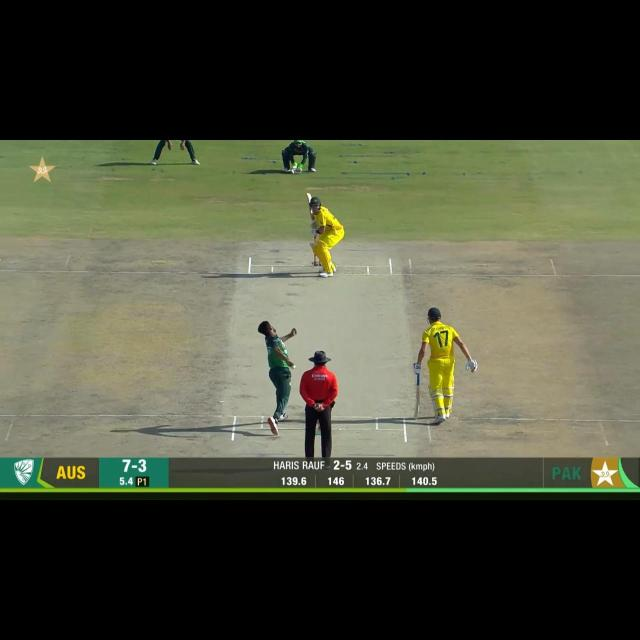bat: (306, 192, 316, 222), (412, 386, 420, 420)
toe: (305, 190, 313, 202), (412, 414, 421, 421)
